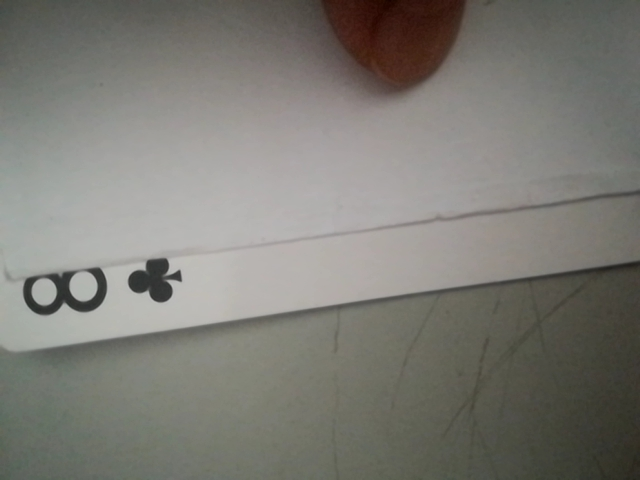mh 8: (1, 251, 195, 335)
